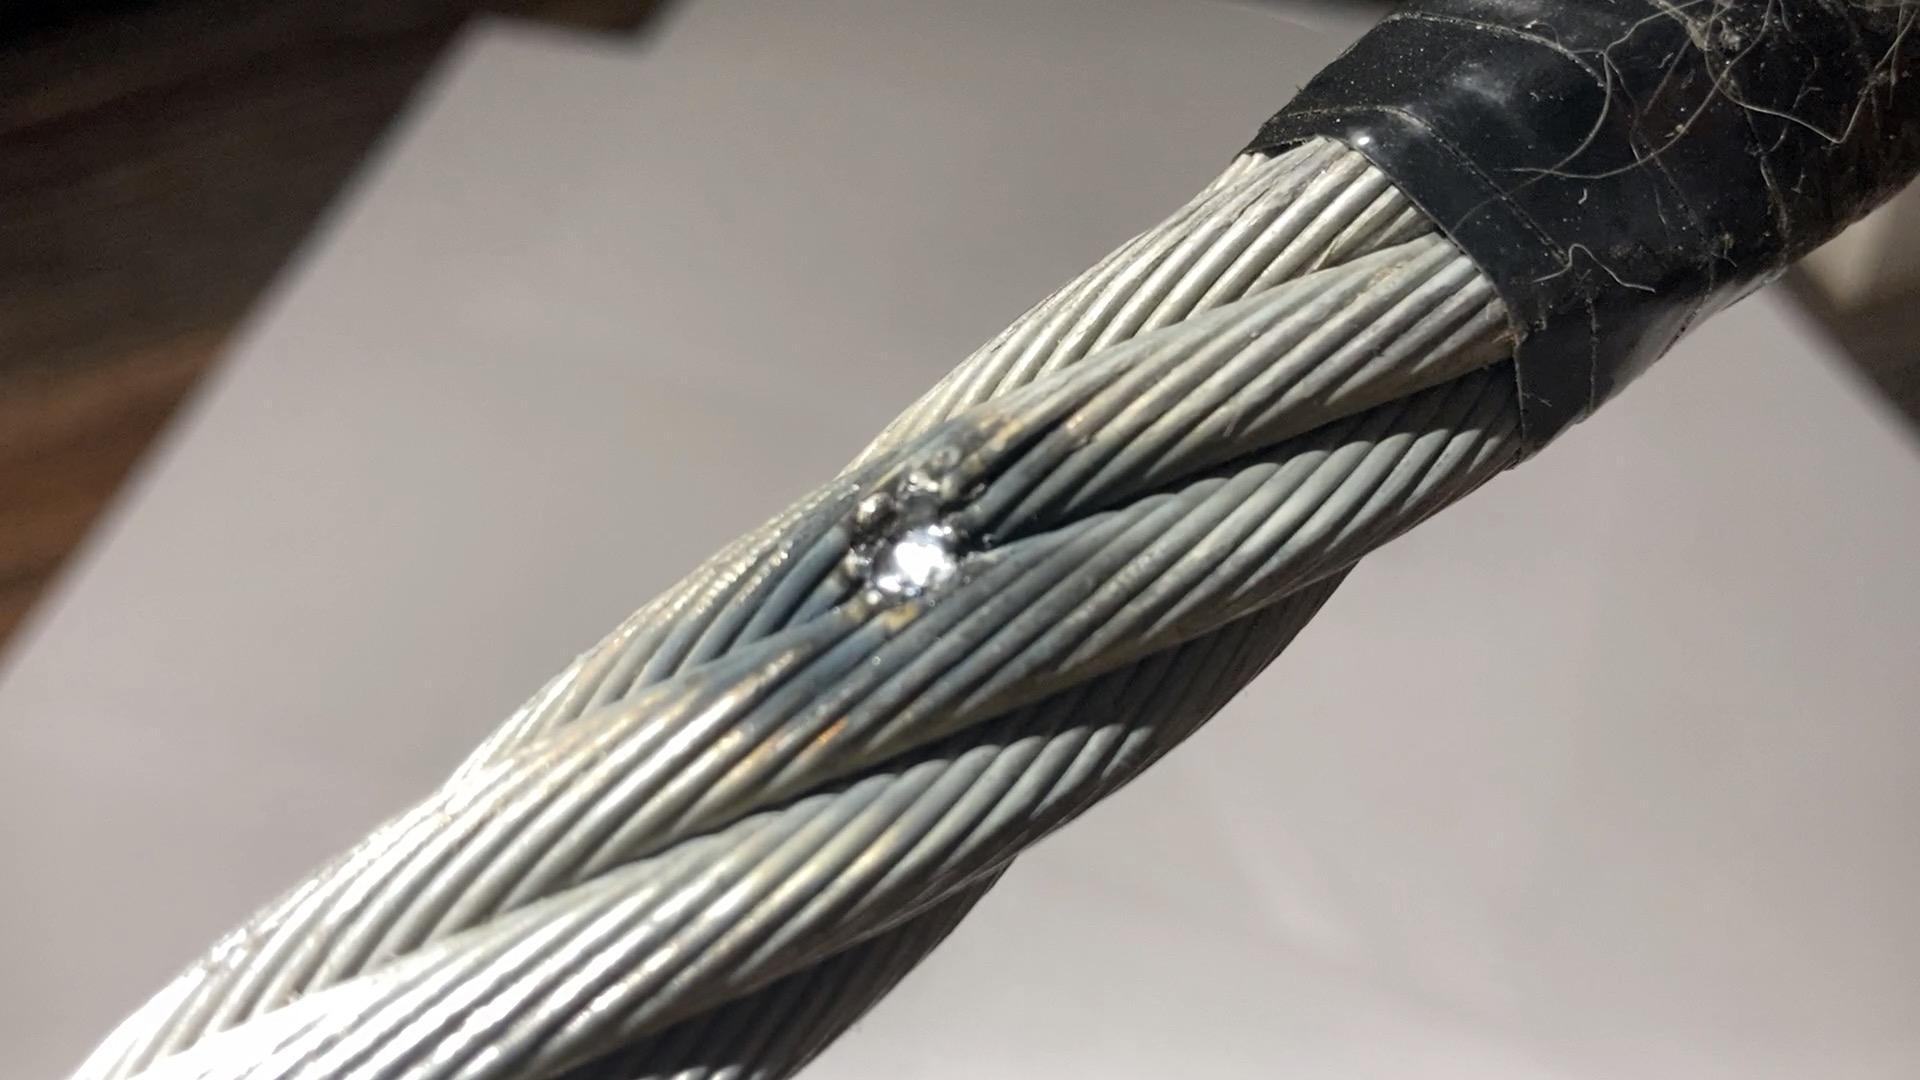thunderbolt: (822, 427, 1001, 634)
